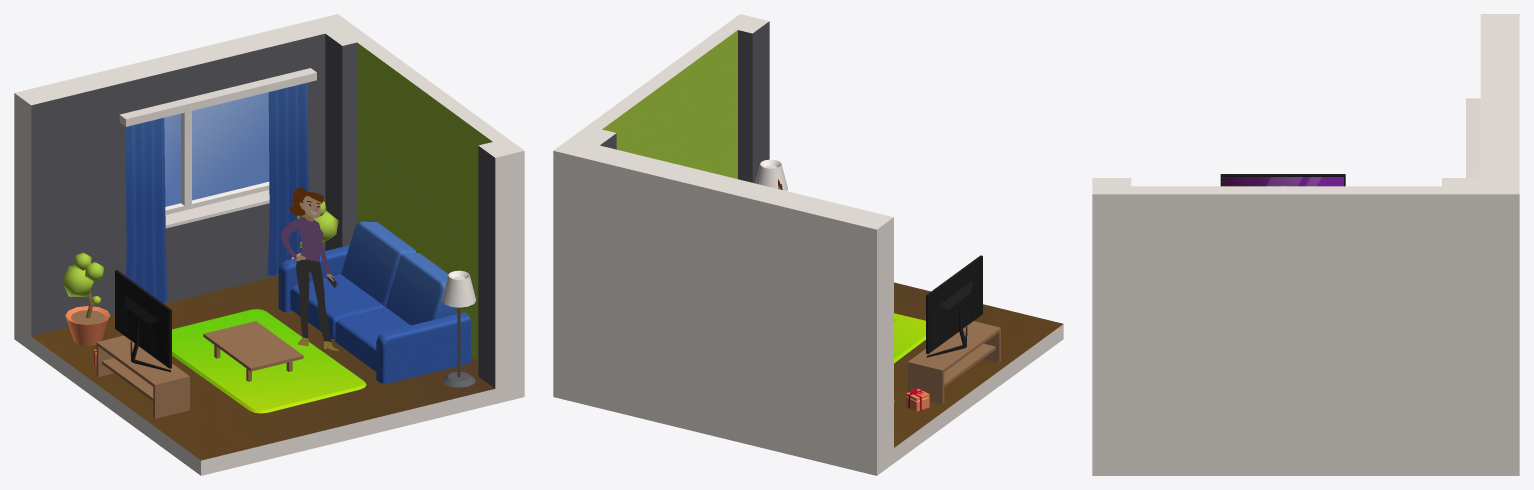
File: SM_LivingRoomCharacter.gltf
3 renders of one model, left to right at view 1: azimuth 30°, elevation 25°; view 2: azimuth 150°, elevation 25°; view 3: azimuth 270°, elevation 25°, orthographic. The views are drawn at different scales.
Visible parts, largest first — view 1: Plane.015, Cube, Plane.014, Plane.017, Character.003, TV, Plane.016, Plane.019, Circle.010, Plane.020; view 2: Plane.015, Plane.017, TV, Plane.014, Circle.010; view 3: Plane.015, TV.
Part boxes in pixels (box(x1,y1,x2,y2)): Plane.015: box(14, 14, 524, 475); Cube: box(278, 221, 470, 383); Plane.014: box(172, 309, 366, 413); Plane.017: box(96, 335, 189, 418); Character.003: box(281, 187, 338, 350); TV: box(115, 270, 171, 372); Plane.016: box(203, 321, 303, 381); Plane.019: box(62, 252, 110, 345); Circle.010: box(441, 270, 476, 387); Plane.020: box(291, 201, 338, 259); Plane.015: box(553, 14, 1063, 475); Plane.017: box(907, 321, 1000, 404); TV: box(926, 255, 982, 357); Plane.014: box(894, 313, 925, 363); Circle.010: box(755, 159, 787, 190); Plane.015: box(1092, 14, 1519, 475); TV: box(1220, 174, 1345, 186).
Bounding box in the file's own units: 4.4 × 3.2 × 4.4.
Materials: 2 (2 with a texture image).
